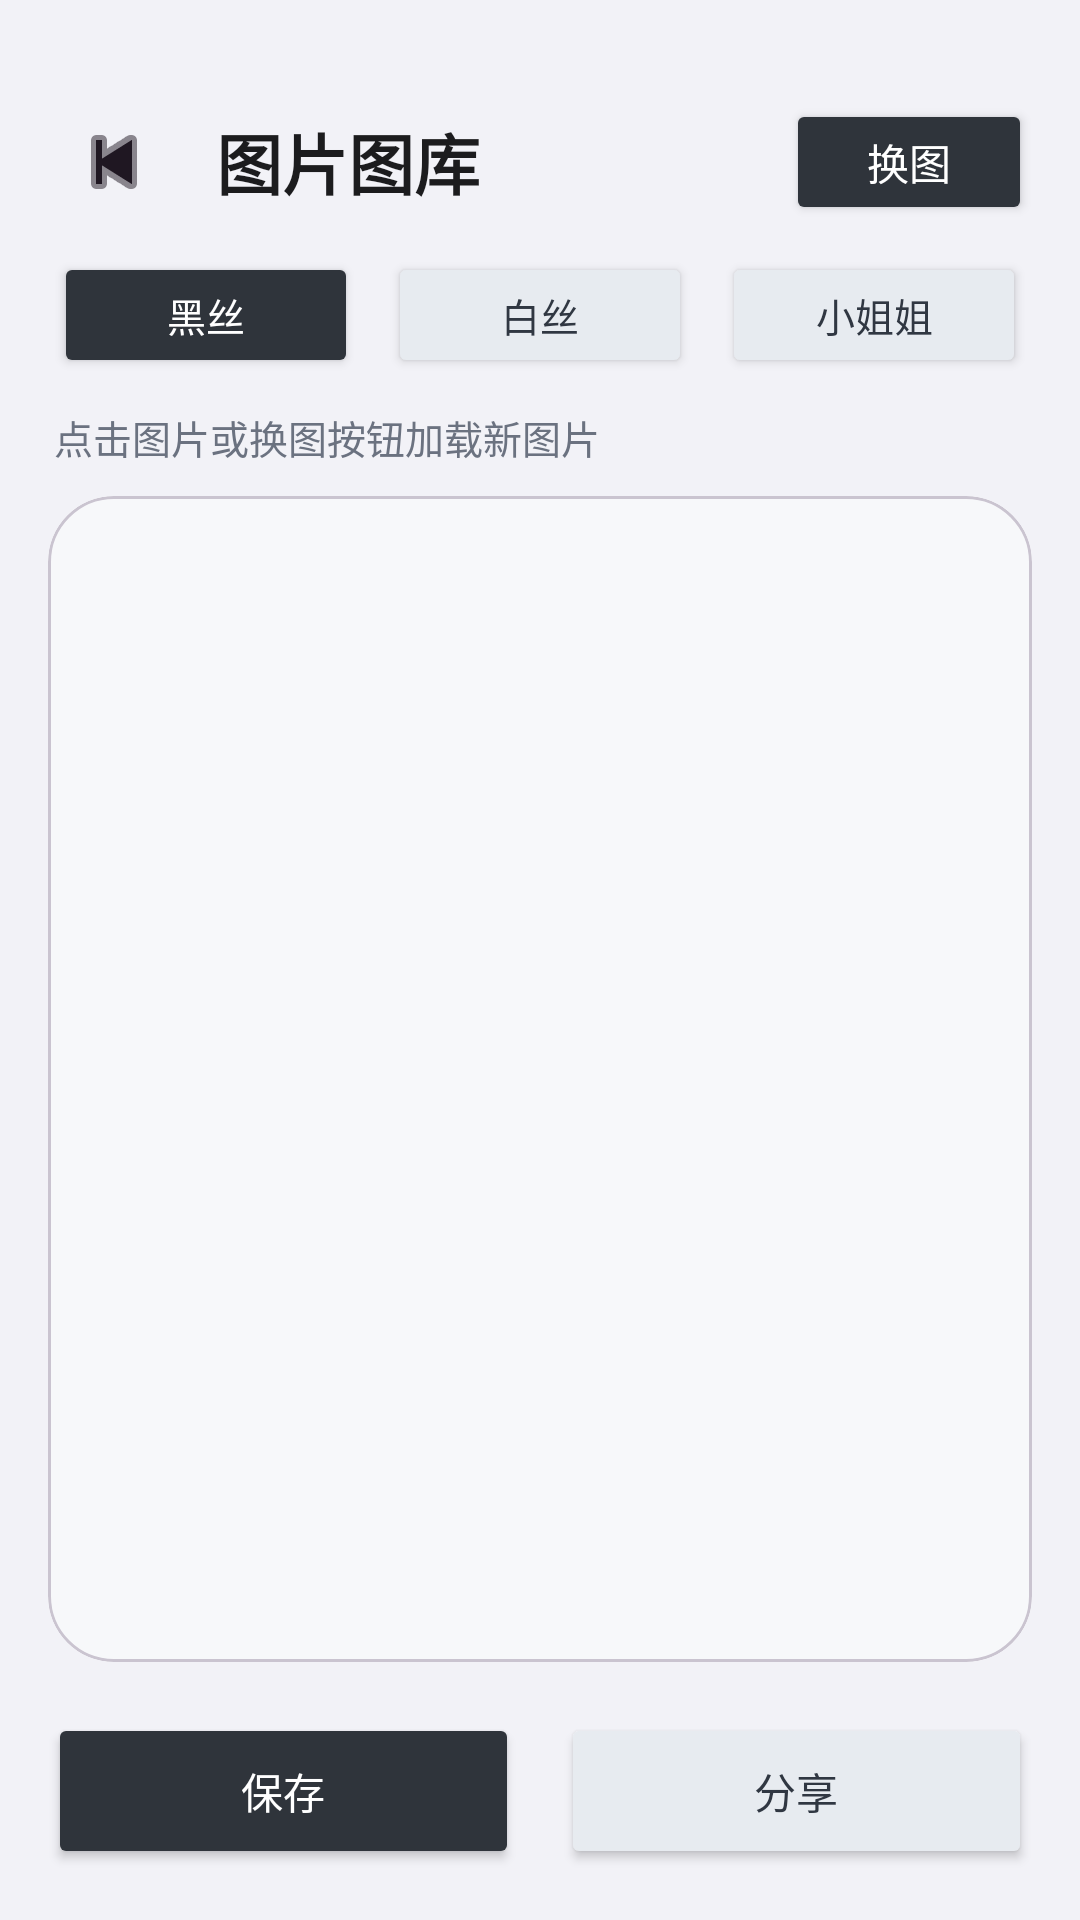

Icon click points for this 1080w x 1920h phone screenshot, format point (x, y):
返回: point (114, 162)
